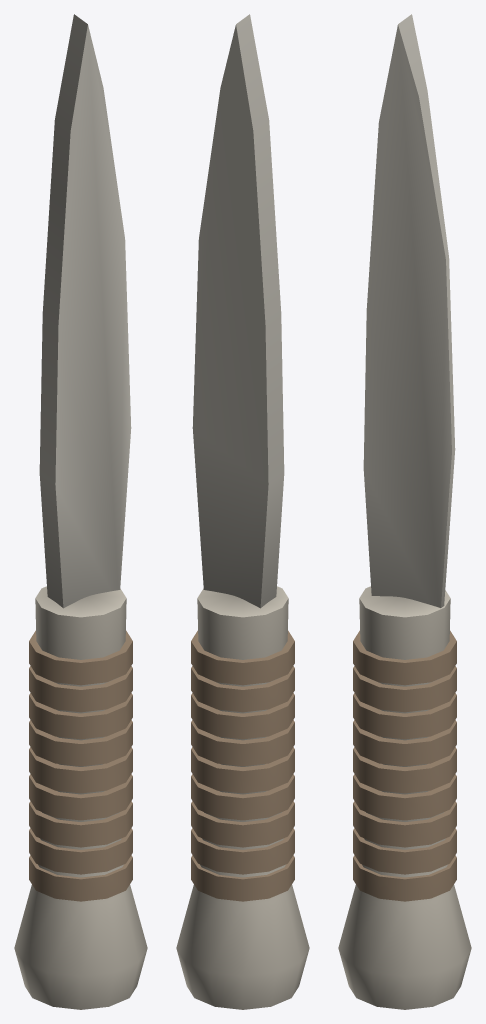
Rendered from bone-knife.glb.
3 renders of one model, left to right at view 1: azimuth 30°, elevation 25°; view 2: azimuth 150°, elevation 25°; view 3: azimuth 330°, elevation 25°, orthographic.
Parts seen in each view (by area): view 1: Body_lod0; view 2: Body_lod0; view 3: Body_lod0.
Boxes of the visible parts, x1,y1,x2,y2 form: Body_lod0: (14,14,147,1009); Body_lod0: (176,14,309,1009); Body_lod0: (338,14,471,1009).
Size of what is drawn, in the model's own units: 0.038 by 0.307 by 0.038.
